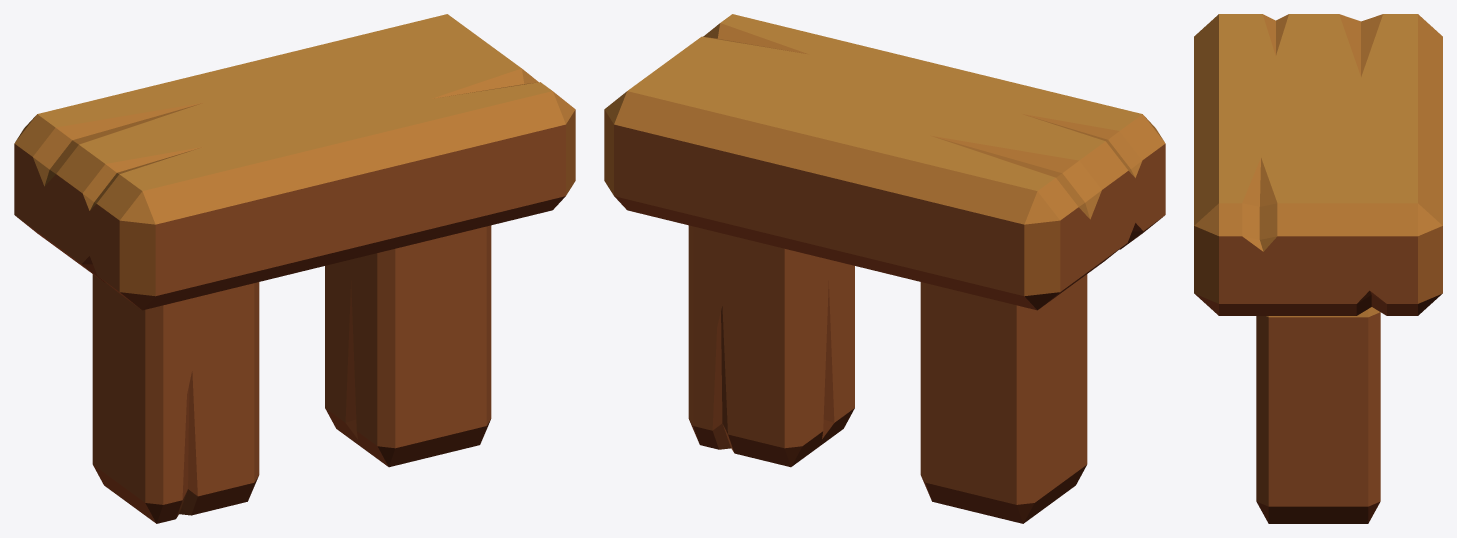
Rendered from m_deco_handrail_brick.FBX.
3 renders of one model, left to right at view 1: azimuth 30°, elevation 25°; view 2: azimuth 150°, elevation 25°; view 3: azimuth 270°, elevation 25°, orthographic. The views are drawn at different scales.
Parts seen in each view (by area): view 1: m_deco_handrail_brick; view 2: m_deco_handrail_brick; view 3: m_deco_handrail_brick.
Boxes of the visible parts, <box> form: m_deco_handrail_brick: <box>14,14,575,523</box>; m_deco_handrail_brick: <box>604,14,1165,523</box>; m_deco_handrail_brick: <box>1194,14,1442,523</box>.
Bounding box in the file's own units: 2 × 1.52 × 1.
